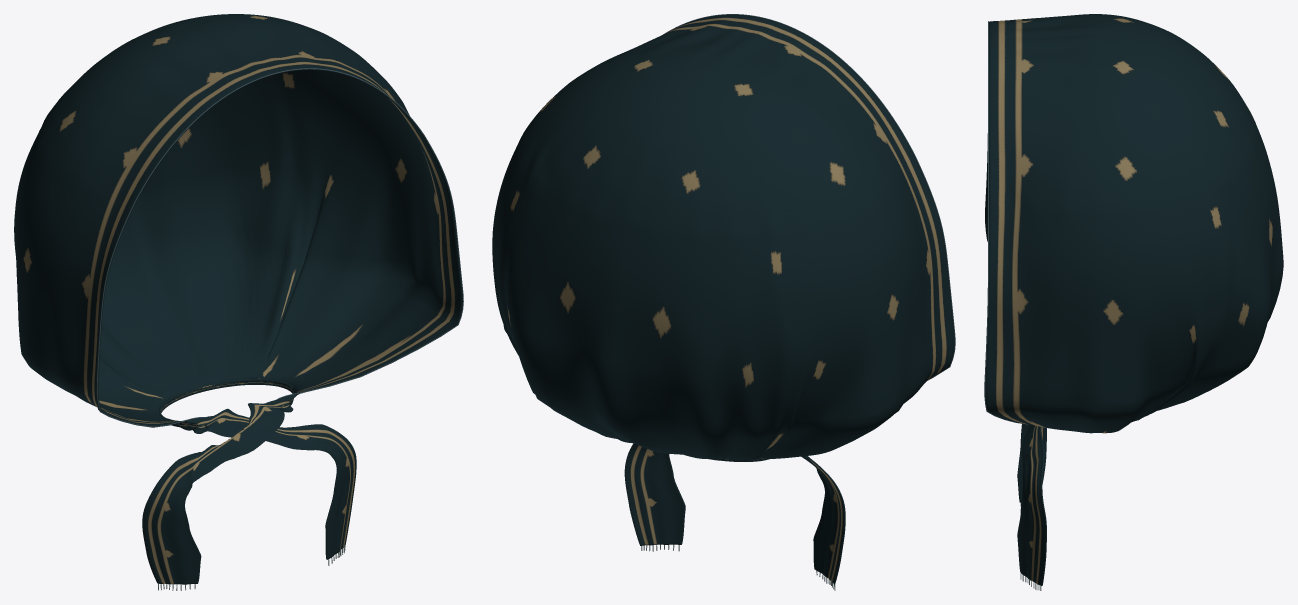
Rendered from Masculine-tank-pashmina245-headgear.glb.
3 views of the same model, side by side, from view 1: azimuth 30°, elevation 25°; view 2: azimuth 150°, elevation 25°; view 3: azimuth 270°, elevation 25° (orthographic). The views are drawn at different scales.
Visible parts, largest first — view 1: 226 headgear / Headwear / continuous woven pashmina239, 226 headgear / Headwear / face edge239; view 2: 226 headgear / Headwear / continuous woven pashmina239, 226 headgear / Headwear / face edge239; view 3: 226 headgear / Headwear / continuous woven pashmina239, 226 headgear / Headwear / face edge239.
Part boxes in pixels (left/top/right/bottom): 226 headgear / Headwear / continuous woven pashmina239: left=14, top=14, right=462, bottom=584; 226 headgear / Headwear / face edge239: left=96, top=68, right=463, bottom=427; 226 headgear / Headwear / continuous woven pashmina239: left=492, top=14, right=954, bottom=584; 226 headgear / Headwear / face edge239: left=663, top=14, right=955, bottom=380; 226 headgear / Headwear / continuous woven pashmina239: left=985, top=14, right=1283, bottom=585; 226 headgear / Headwear / face edge239: left=984, top=21, right=1021, bottom=423.
Size of the model in its own units: 1.03 by 1.35 by 0.7127.
3 materials, 1 textured.
